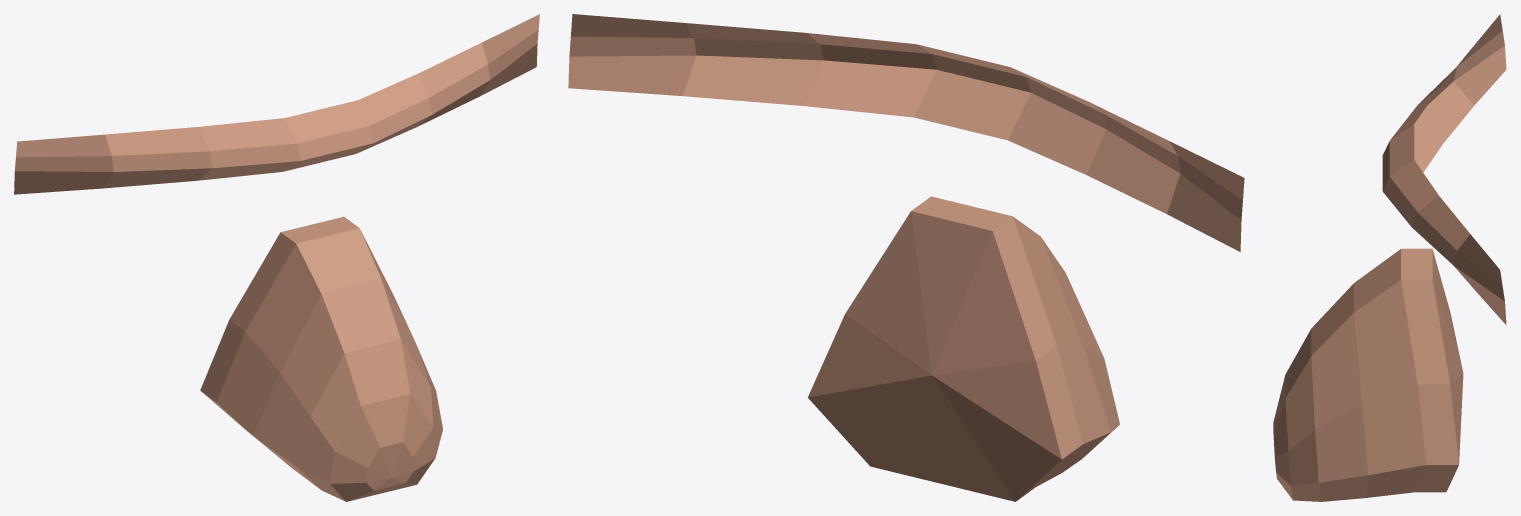
Rendered from nose_gb_hook.glb.
3 views of the same model, side by side, from view 1: azimuth 30°, elevation 25°; view 2: azimuth 150°, elevation 25°; view 3: azimuth 270°, elevation 25° (orthographic). The views are drawn at different scales.
Visible parts, largest first — view 1: Snout; view 2: Snout; view 3: Snout.
Boxes of the visible parts, box(x1,y1,x2,y2) form: Snout: box(14, 14, 539, 501); Snout: box(568, 14, 1244, 501); Snout: box(1273, 14, 1506, 501).
Bounding box in the file's own units: 0.148 × 0.092 × 0.057.
1 material, 1 textured.
